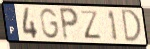1: (107, 9, 118, 42)
4: (21, 6, 40, 40)
D: (121, 9, 143, 44)
G: (39, 7, 61, 40)
P: (58, 6, 80, 43)
Z: (79, 10, 103, 41)
